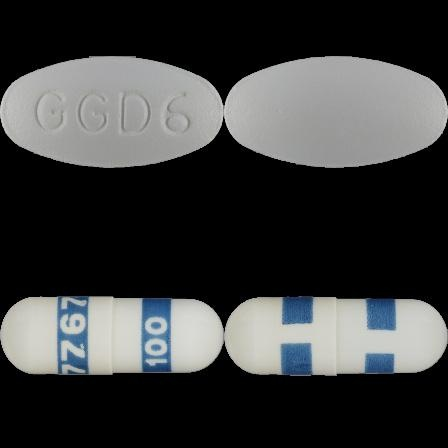69189-1496: (0, 0, 224, 224)
